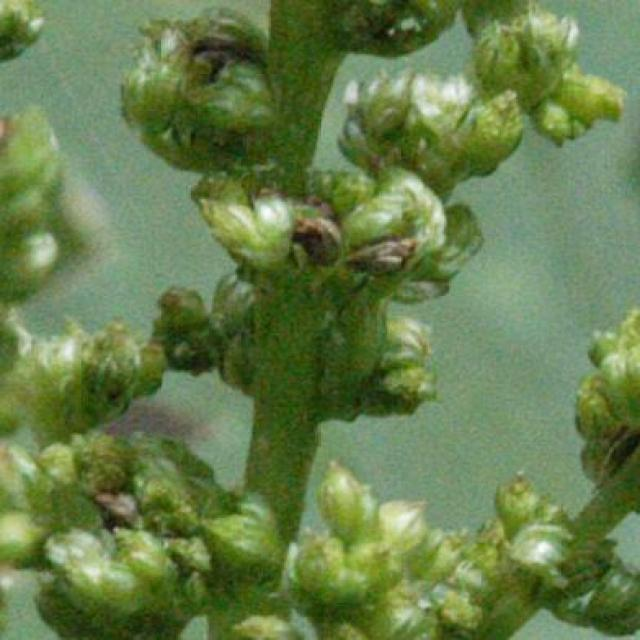Medicinal-Arive Dantu: (125, 0, 620, 443), (3, 320, 285, 640)
